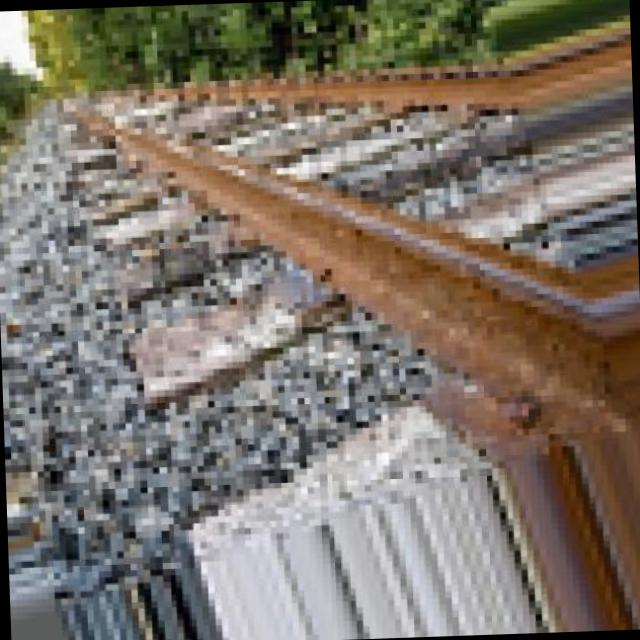defective: (22, 24, 640, 486)
